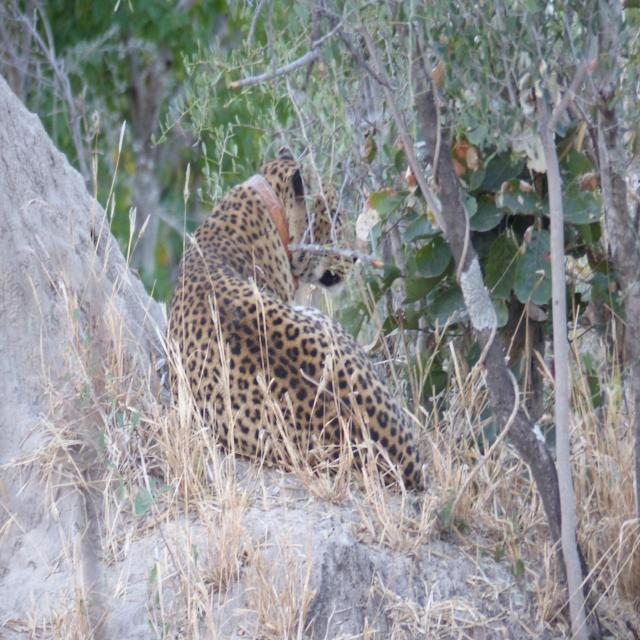Leopard: (169, 148, 435, 504)
